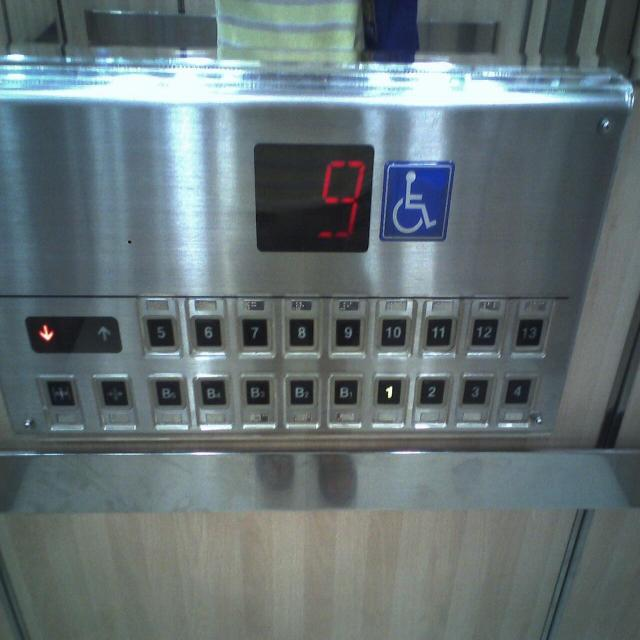1: (376, 377, 402, 405)
10: (378, 316, 408, 346)
11: (424, 316, 452, 346)
12: (470, 316, 498, 346)
13: (513, 317, 545, 347)
2: (419, 378, 445, 404)
3: (460, 377, 488, 404)
4: (503, 376, 533, 404)
5: (145, 316, 175, 347)
6: (193, 316, 221, 346)
7: (240, 316, 268, 346)
8: (287, 316, 315, 346)
9: (334, 316, 362, 346)
B1: (332, 377, 358, 405)
B2: (288, 378, 314, 404)
B3: (244, 378, 270, 404)
B4: (199, 378, 227, 404)
B5: (154, 378, 182, 406)
CH: (381, 160, 454, 240)
close: (99, 378, 129, 406)
led: (254, 142, 373, 252), (23, 315, 121, 354)
open: (44, 378, 75, 408)
